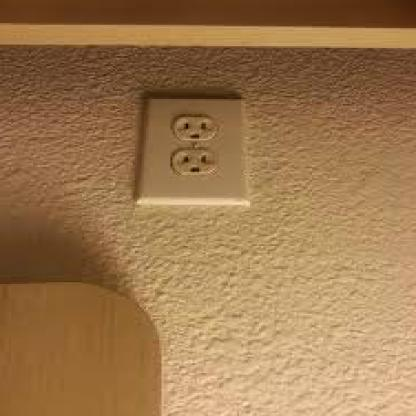OUTLET: (135, 96, 246, 205)
